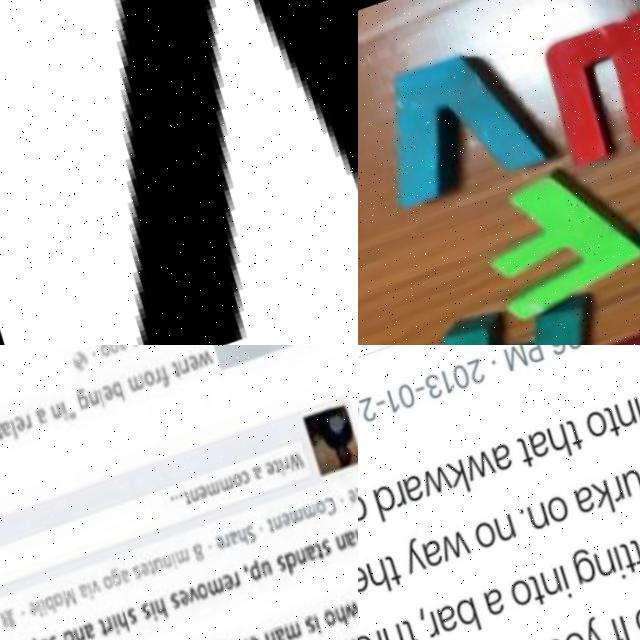2: (545, 345, 565, 365)
8: (188, 546, 203, 568)
A: (429, 607, 456, 640), (568, 491, 594, 525), (416, 542, 442, 576), (486, 447, 512, 481), (398, 477, 424, 511), (524, 437, 549, 468), (479, 593, 502, 625), (300, 549, 316, 570), (340, 536, 355, 557), (31, 408, 46, 429), (246, 470, 261, 489), (116, 570, 128, 589), (224, 535, 237, 552), (0, 421, 11, 440), (79, 624, 92, 640), (73, 586, 85, 602), (113, 345, 127, 356), (269, 631, 284, 640)
B: (449, 600, 478, 640), (109, 383, 125, 409), (40, 598, 53, 618)
C: (319, 502, 335, 524), (238, 475, 247, 491)
D: (369, 487, 398, 528), (280, 557, 297, 583), (58, 630, 74, 640)
E: (11, 415, 25, 436), (210, 539, 225, 558), (185, 358, 200, 377), (218, 579, 232, 598), (99, 387, 113, 406), (174, 593, 187, 613), (358, 568, 366, 599), (260, 466, 273, 483), (23, 603, 35, 620), (278, 517, 289, 534), (135, 565, 146, 582), (195, 489, 206, 506), (344, 496, 355, 512), (134, 345, 147, 349)
F: (472, 166, 639, 333), (602, 625, 622, 640), (156, 370, 168, 392)
G: (565, 553, 596, 595), (73, 389, 88, 415), (106, 571, 119, 592), (103, 345, 119, 359)
H: (542, 428, 571, 470), (362, 563, 387, 602), (376, 626, 404, 640), (150, 601, 165, 626), (330, 613, 345, 637), (112, 615, 127, 638), (233, 533, 247, 554)
I: (609, 554, 624, 591), (554, 571, 568, 608), (630, 406, 640, 441), (614, 622, 628, 640), (106, 616, 116, 640), (309, 620, 318, 640), (145, 606, 154, 626), (166, 556, 175, 575), (82, 585, 91, 604), (96, 391, 104, 412), (58, 404, 66, 425), (35, 601, 44, 619), (276, 464, 284, 484)
K: (416, 281, 620, 345), (587, 486, 613, 527), (443, 463, 469, 503), (353, 492, 358, 512)
L: (8, 421, 16, 442), (32, 602, 40, 621)
M: (500, 349, 527, 380), (56, 588, 75, 612), (202, 583, 223, 604), (124, 377, 144, 397), (298, 509, 316, 527), (170, 552, 188, 570), (201, 485, 219, 503), (285, 513, 302, 531), (215, 480, 232, 498), (279, 628, 298, 640), (350, 533, 358, 554)
N: (489, 519, 514, 551), (536, 574, 561, 605), (611, 408, 636, 437), (523, 508, 545, 539), (590, 557, 612, 587), (330, 540, 346, 561), (85, 391, 100, 410), (48, 403, 61, 424), (291, 554, 305, 573), (176, 362, 190, 381), (185, 491, 199, 508), (157, 558, 170, 575), (269, 521, 280, 537), (69, 628, 83, 640), (258, 634, 273, 640)
O: (504, 583, 532, 616), (541, 501, 568, 533), (469, 526, 496, 558), (581, 417, 607, 449), (317, 615, 334, 635), (191, 586, 207, 607), (628, 613, 640, 640), (140, 372, 154, 393), (95, 345, 110, 363), (311, 506, 325, 523), (228, 477, 242, 494), (48, 594, 61, 611), (98, 577, 110, 594)
P: (522, 345, 543, 371), (243, 566, 258, 590)
Q: (358, 490, 366, 529)
R: (418, 615, 437, 640), (388, 485, 404, 514), (605, 484, 622, 511), (227, 577, 237, 595), (151, 372, 161, 390), (21, 415, 31, 433), (218, 538, 228, 554), (100, 622, 109, 637), (278, 462, 287, 477), (364, 633, 381, 640)
S: (271, 560, 286, 581), (163, 596, 178, 617), (241, 529, 255, 550), (136, 604, 149, 626), (121, 609, 134, 631), (298, 621, 313, 640), (316, 546, 329, 565), (128, 567, 138, 585), (127, 345, 137, 352)
T: (525, 580, 544, 615), (563, 425, 582, 460), (513, 441, 532, 476), (616, 550, 635, 584), (381, 558, 400, 592), (601, 414, 620, 448), (625, 546, 640, 580), (397, 623, 416, 640), (93, 621, 105, 640), (168, 365, 180, 384), (310, 549, 321, 569), (179, 493, 190, 511), (262, 524, 272, 539), (143, 564, 152, 579), (270, 465, 278, 481), (142, 345, 152, 349)
U: (617, 476, 640, 507), (255, 565, 270, 584), (149, 560, 160, 577)
V: (0, 0, 358, 345), (361, 43, 539, 215), (182, 591, 197, 610), (86, 582, 97, 599)
W: (514, 0, 640, 183), (460, 453, 494, 490), (435, 535, 470, 569), (416, 470, 449, 504), (284, 457, 302, 479), (339, 608, 358, 628), (193, 354, 212, 374)
Y: (396, 539, 425, 581), (573, 620, 603, 640)
